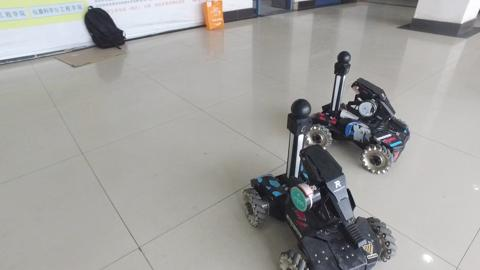bag: (77, 4, 129, 53)
chariot: (240, 95, 399, 270), (305, 46, 417, 177)
